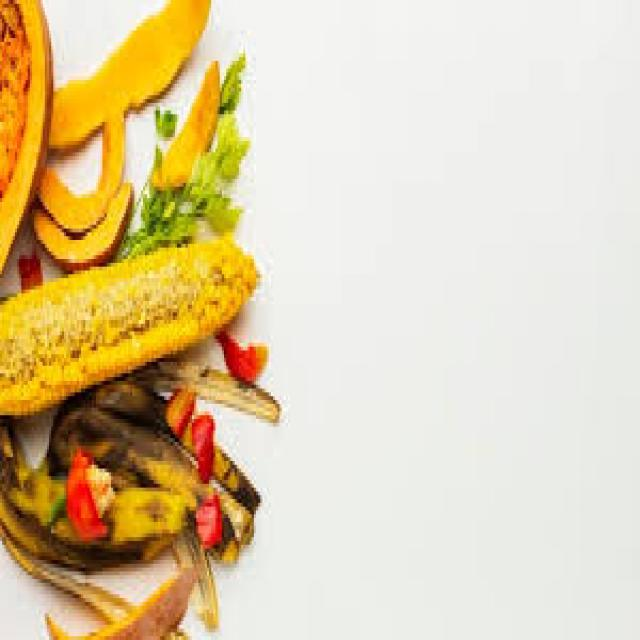organic waste: (43, 358, 277, 568), (0, 415, 211, 636), (0, 228, 258, 408), (47, 0, 209, 137), (0, 0, 51, 278), (32, 103, 126, 236), (47, 564, 194, 636), (30, 179, 130, 271), (153, 61, 220, 190), (47, 446, 117, 544), (120, 175, 197, 244), (168, 518, 218, 621), (188, 172, 241, 228), (214, 324, 262, 385), (209, 110, 245, 176), (160, 385, 196, 434), (190, 408, 213, 483), (216, 46, 241, 106), (194, 491, 222, 541), (15, 244, 40, 282), (154, 103, 172, 126), (196, 160, 211, 187)
